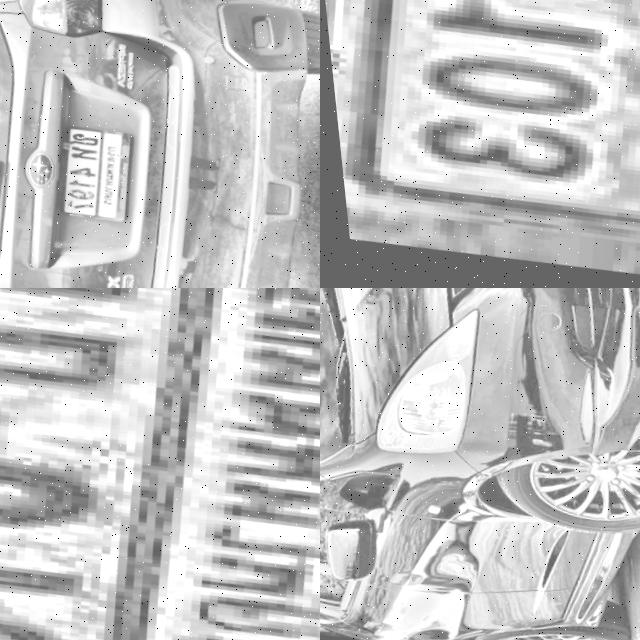license-plate: (0, 288, 320, 640), (320, 0, 640, 288), (41, 125, 132, 227)
